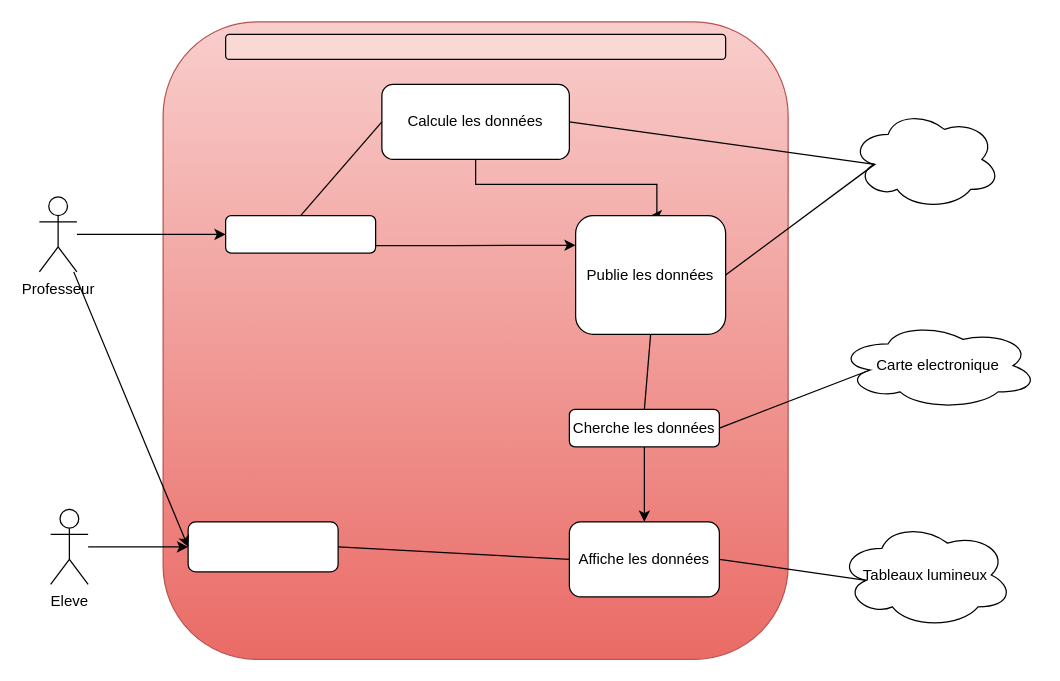
This 1060x681 diagram has some shape labels left out. The shapes that lost their labels are listed below. From the top down, each one's centre as x and y in pixels, then its label:
At [475,46]: "Calculatrice visible en ligne".
At [925,158]: "Calculatrice".
At [300,233]: "Rentre les données".
At [262,546]: "Visualise les données".
